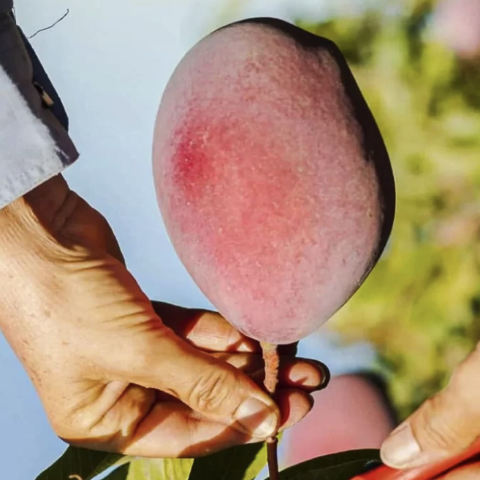mango: (132, 13, 425, 357)
